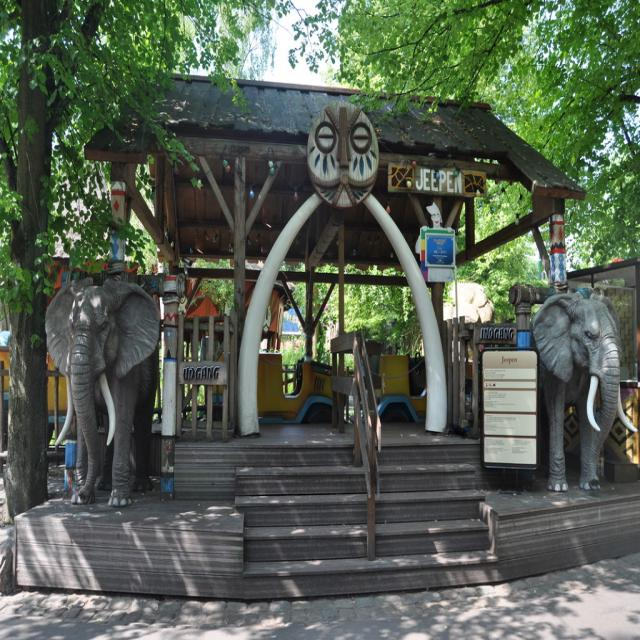Elephant: (42, 279, 160, 511), (528, 289, 640, 492)
